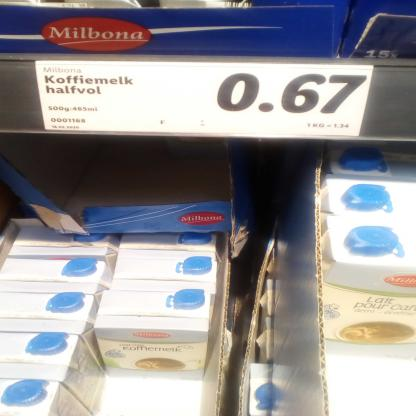prtg: (37, 61, 376, 138)
